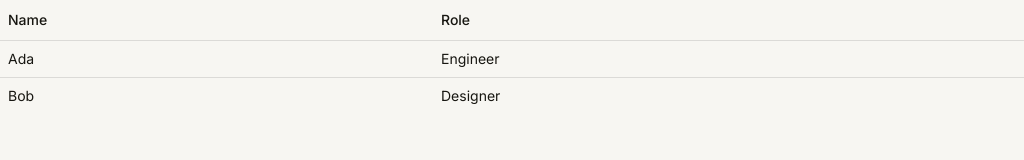
Table in-place cell editing (widget level) › clicking an editable cell swaps to an input seeded with the cell value
This screenshot has width=1024, height=160.
Click the button "Ada": point(21, 58) x1=8 y1=50 x2=34 y2=66
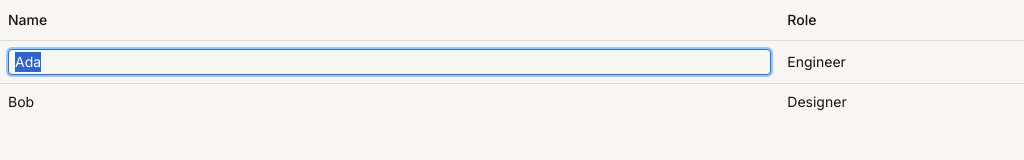
expect the field named "Edit Name value" holds "Ada": met, box x1=8 y1=48 x2=771 y2=74
